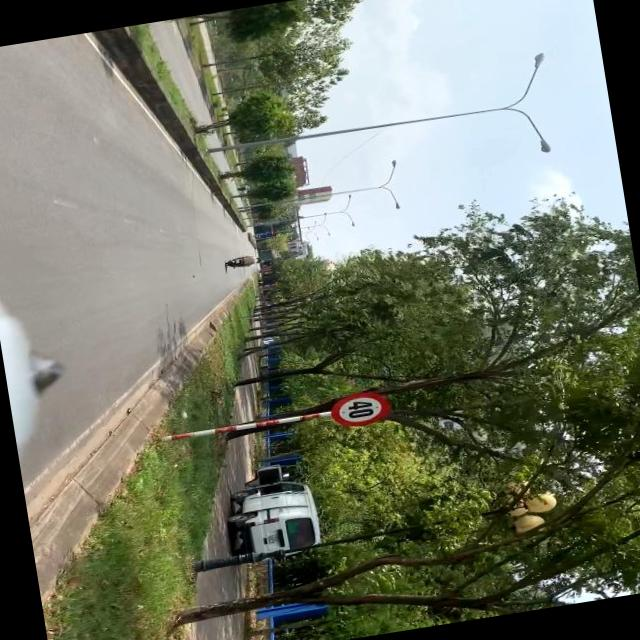P-127: (327, 386, 393, 434)
